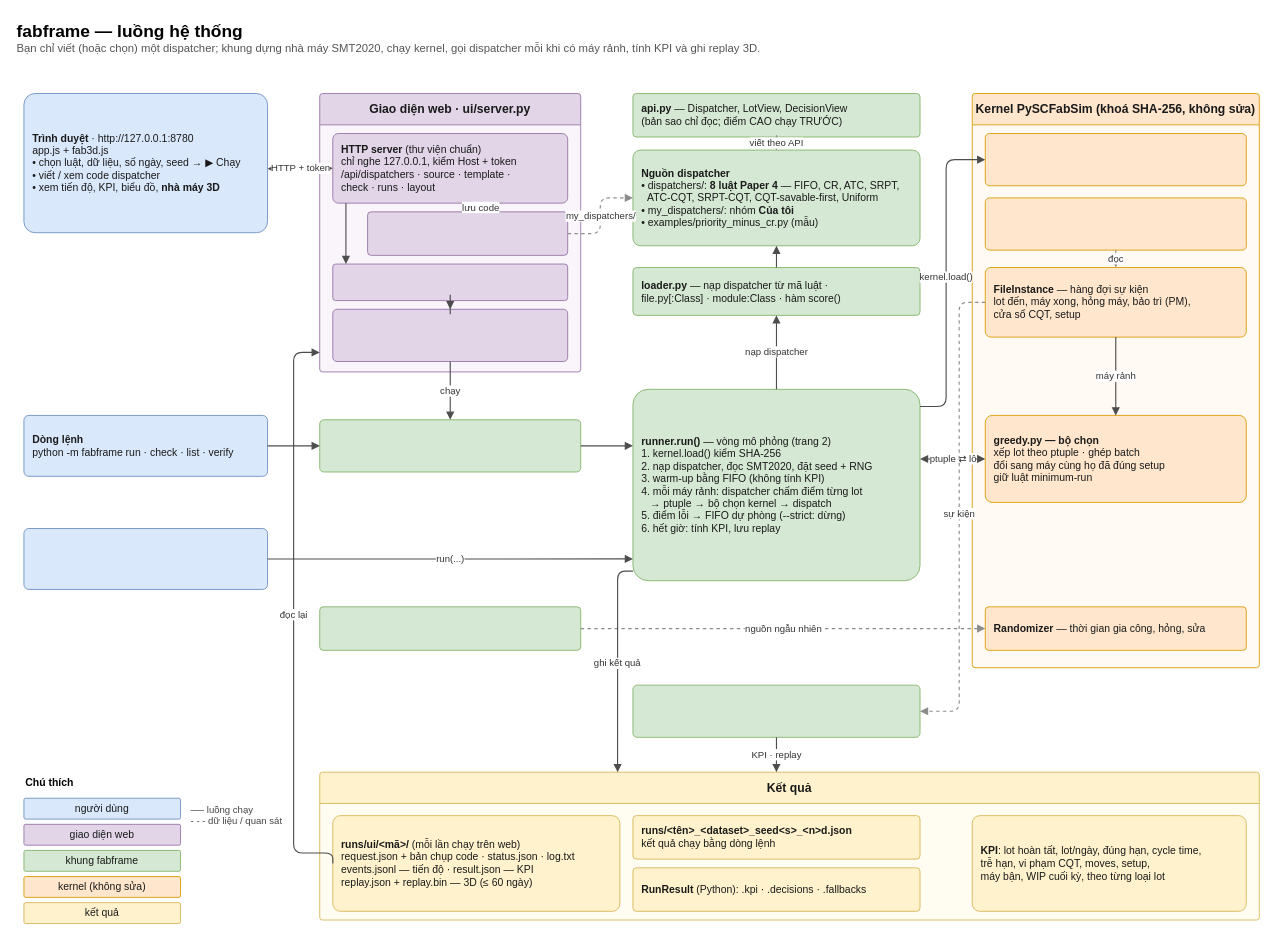
The diagram is 1275 pixels wide and 939 high, and some of its shapes have lost their labels. Here are the shapes that lost their labels. From the top down, the centre of each, then its label:
the point at 1115,159: kernel/__init__.py kiểm MANIFEST.sha256 rồi mới import; sai một byte là dừng
the point at 467,233: Lưu dispatcher viết trên web → my_dispatchers/<tên>.py
the point at 1115,223: datasets/ SMT2020_HVLM · SMT2020_LVHM route, máy, setup, PM, đơn hàng, WIP đầu
the point at 450,282: Hàng đợi : tối đa N lần chạy song song, huỷ được
the point at 450,334: Mỗi lần chạy = 1 tiến trình con dispatcher lỗi không làm sập giao diện
the point at 450,445: cli.py — python -m fabframe run <dispatcher> --events · --replay · --out
the point at 145,558: Python from fabframe import run · run(dispatcher, …)
the point at 450,628: rng.py — RNG theo sự kiện (semantic): đổi dispatcher không đổi sự cố của nhà máy
the point at 776,710: Quan sát (không đổi mô phỏng) kpi.py KpiRecorder · replay.py ReplayRecorder
